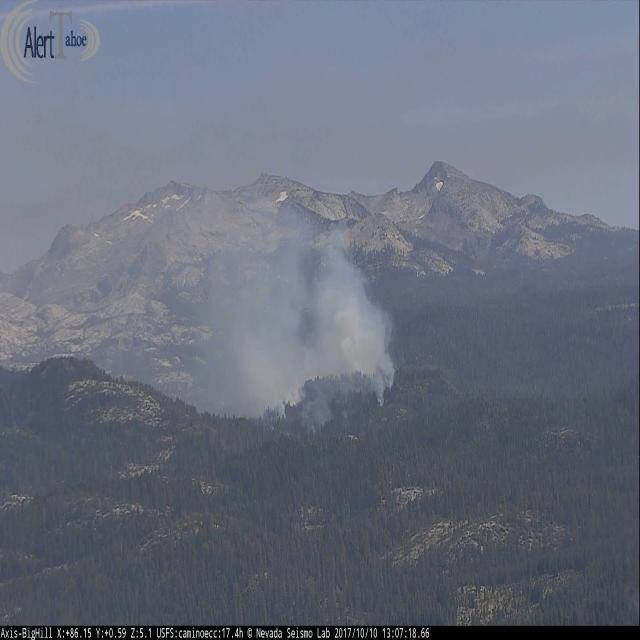smoke: (199, 210, 396, 422)
